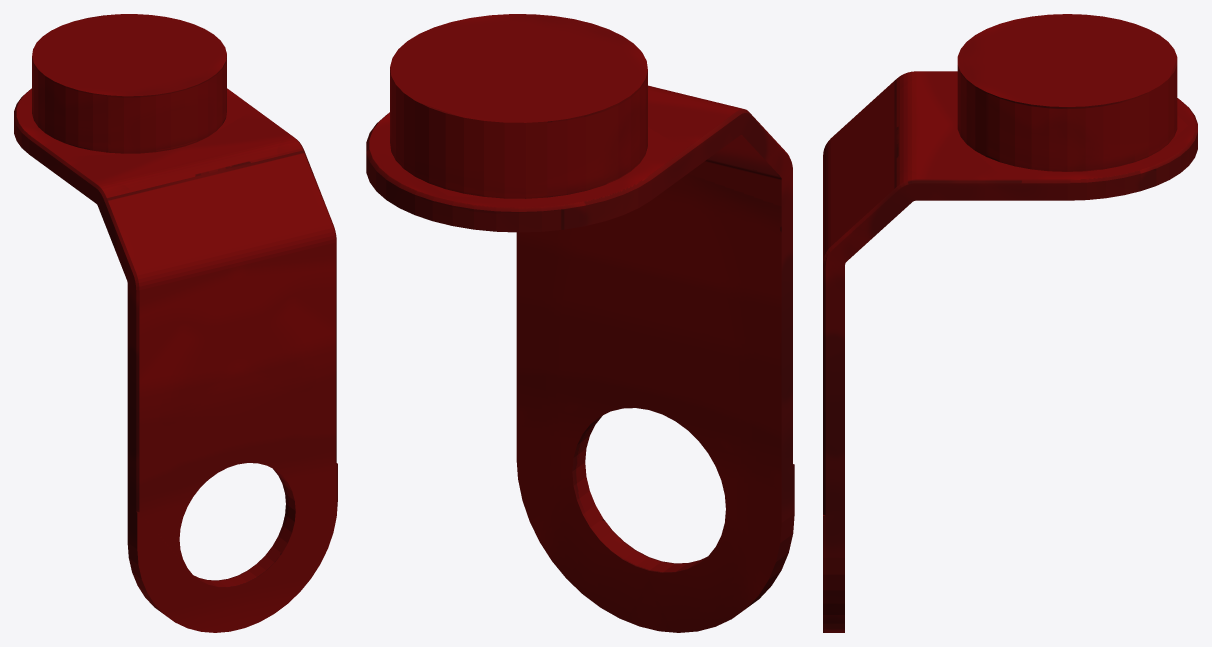
Rendered from mw_frame_stl_color.dae.
3 renders of one model, left to right at view 1: azimuth 30°, elevation 25°; view 2: azimuth 150°, elevation 25°; view 3: azimuth 270°, elevation 25°, orthographic. The views are drawn at different scales.
Visible parts, largest first — view 1: mw_frame; view 2: mw_frame; view 3: mw_frame.
Boxes of the visible parts, x1=… form: mw_frame: x1=14, y1=14, x2=337, y2=632; mw_frame: x1=366, y1=14, x2=794, y2=632; mw_frame: x1=823, y1=14, x2=1197, y2=632.
Bounding box in the file's own units: 0.095 × 0.1361 × 0.2244.
Materials: 1 (1 with a texture image).
